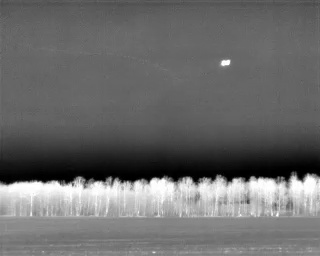DRONE: (216, 55, 235, 71)
